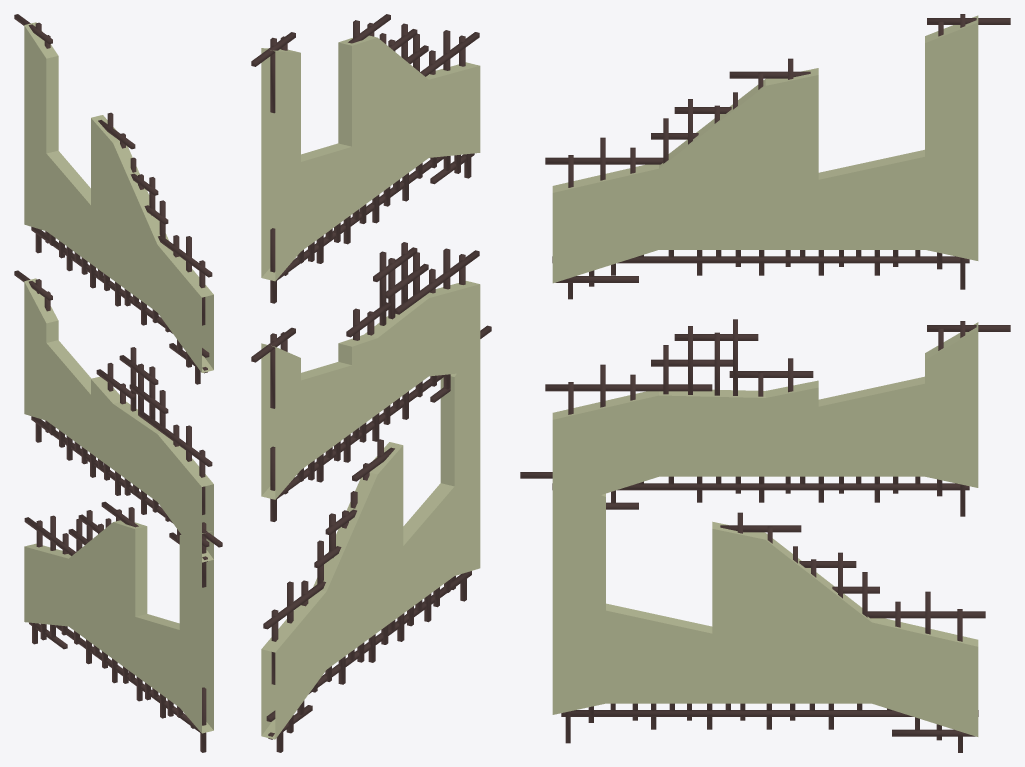
Rendered from ruins_wall.glb.
3 views of the same model, side by side, from view 1: azimuth 30°, elevation 25°; view 2: azimuth 150°, elevation 25°; view 3: azimuth 270°, elevation 25° (orthographic). The views are drawn at different scales.
Visible parts, largest first — view 1: Cube.001; view 2: Cube.001; view 3: Cube.001.
Part boxes in pixels (box(x1,y1,x2,y2)): Cube.001: box(14, 14, 222, 752); Cube.001: box(251, 14, 491, 752); Cube.001: box(520, 14, 1010, 752).
Bounding box in the file's own units: 0.2 × 9.78 × 5.87.
1 material, 1 textured.
